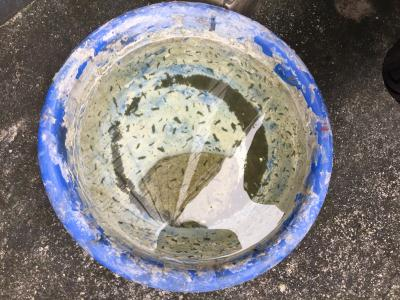bowl: (36, 3, 339, 294)
